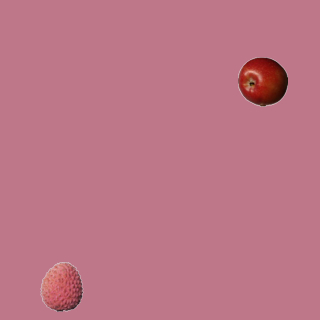Apple Braeburn: (237, 56, 287, 106)
Lychee: (36, 261, 86, 311)
